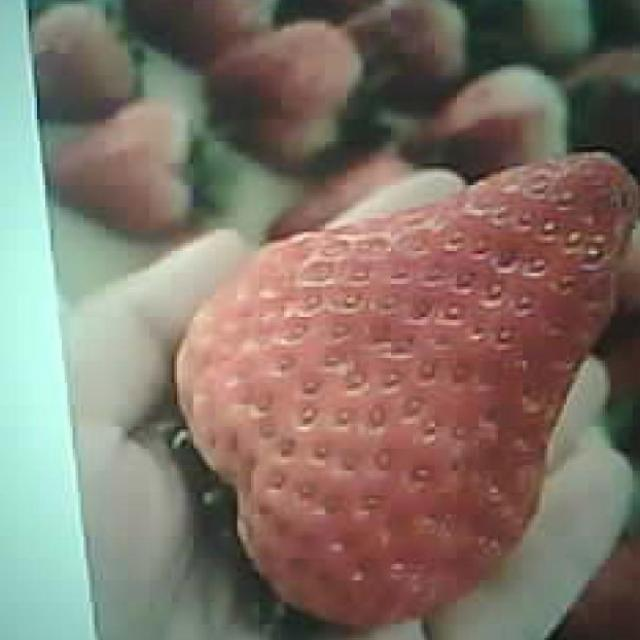Healthy Fruit: (171, 149, 636, 627)
